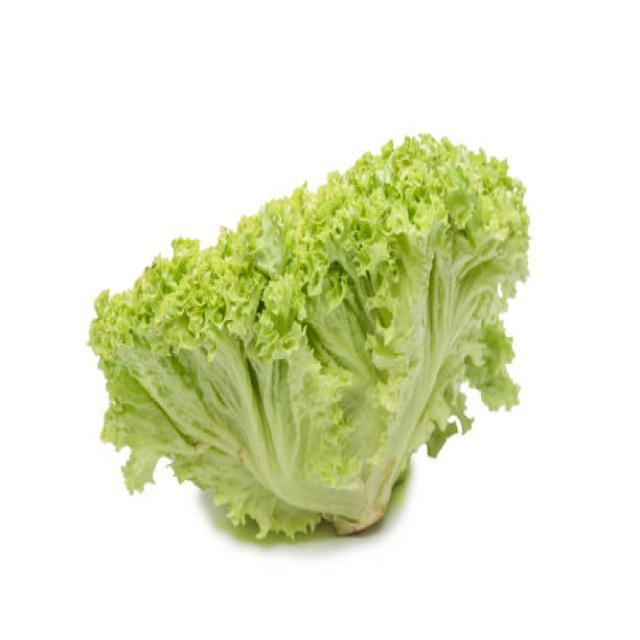Lettuce-Ready-to-Harvest: (78, 129, 534, 542)
